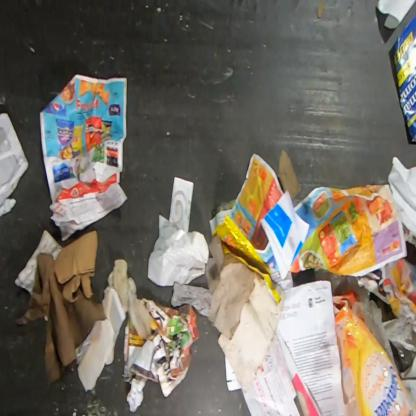cardboard: (15, 230, 106, 385), (122, 297, 200, 413)
soft_plastic: (334, 304, 416, 416), (314, 268, 394, 364), (397, 344, 415, 372)
